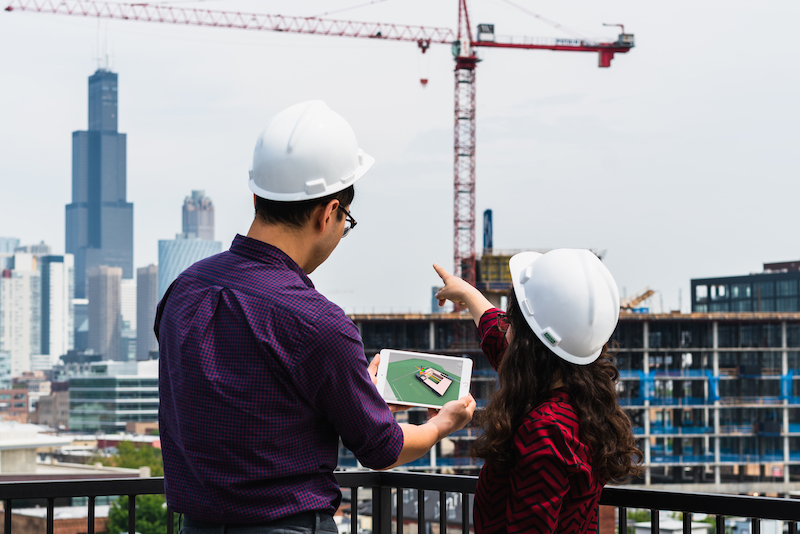hard-hat: (506, 244, 622, 366), (246, 100, 378, 203)
